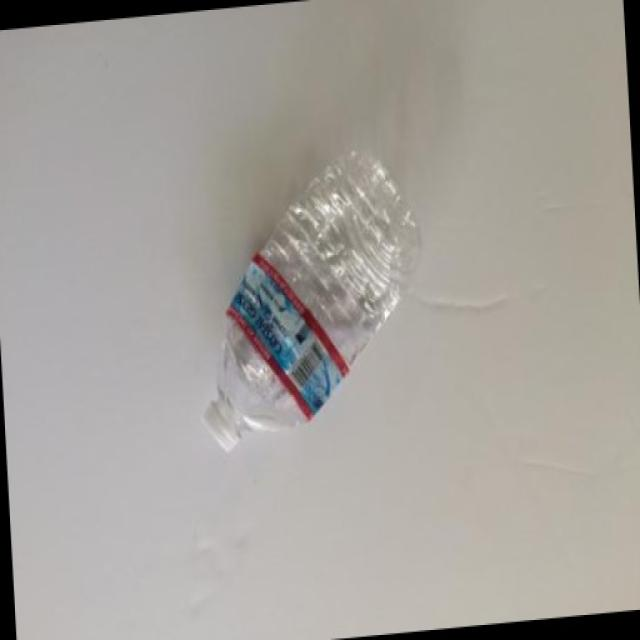plastico: (184, 134, 490, 460)
